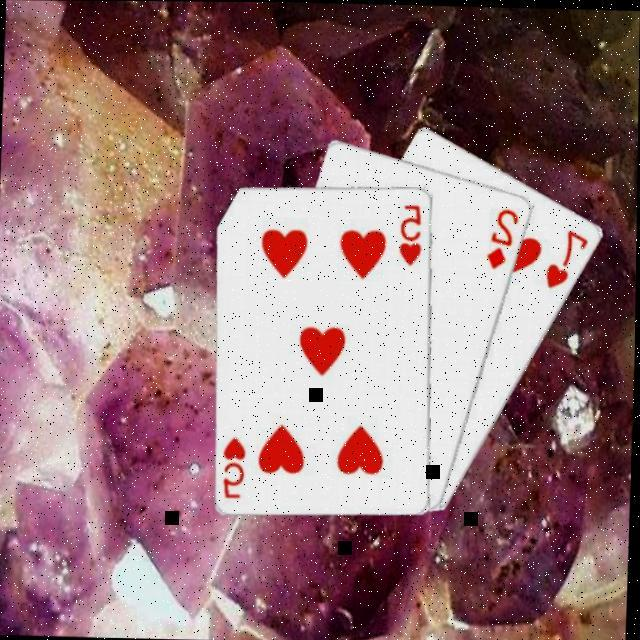2D: (483, 204, 522, 272)
5H: (220, 434, 250, 502), (395, 201, 425, 268)
7H: (542, 226, 592, 292)
